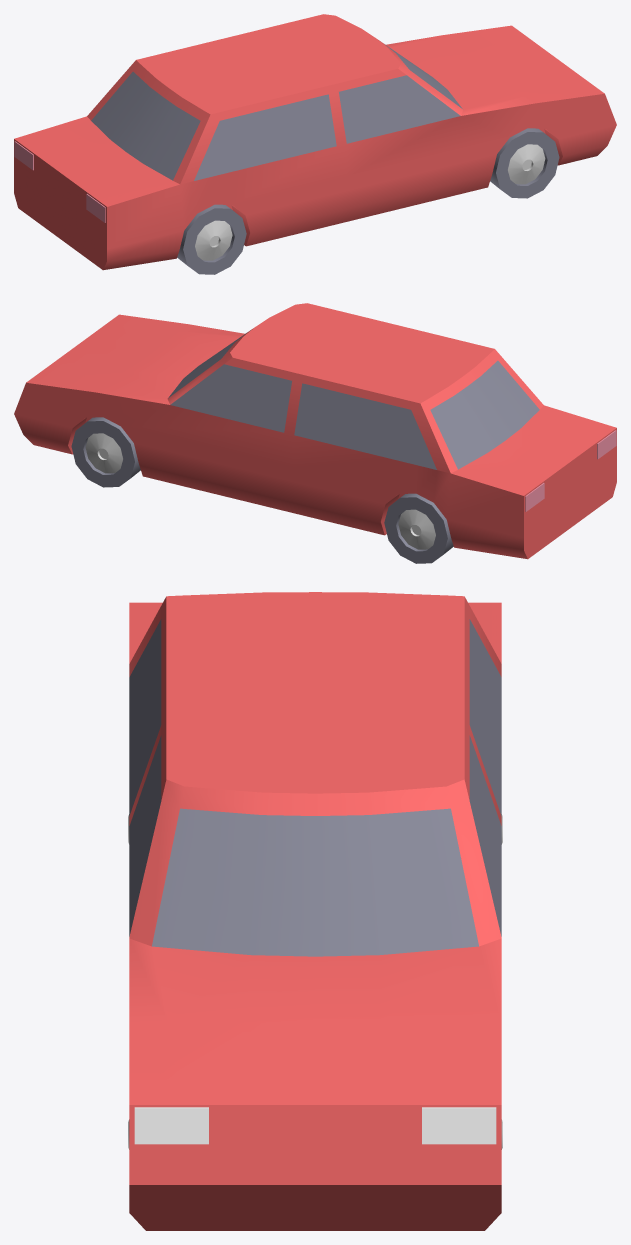
The model's file is LimoRed.gltf.
The picture shows the model from 3 angles, top to bottom: view 1: azimuth 30°, elevation 25°; view 2: azimuth 150°, elevation 25°; view 3: azimuth 270°, elevation 25°; orthographic projection. The views are drawn at different scales.
Visible parts, largest first — view 1: Cabin, Windows/Wheels, Wheels, Disk, Red lights; view 2: Cabin, Windows/Wheels, Wheels, Disk, Red lights; view 3: Cabin, Windows/Wheels, Front lights.
Part boxes in pixels (x1=…): Cabin: x1=14, y1=14, x2=616, y2=270; Windows/Wheels: x1=91, y1=44, x2=462, y2=180; Wheels: x1=177, y1=128, x2=559, y2=274; Disk: x1=195, y1=144, x2=545, y2=260; Red lights: x1=14, y1=141, x2=105, y2=222; Cabin: x1=14, y1=303, x2=616, y2=559; Windows/Wheels: x1=168, y1=333, x2=539, y2=469; Wheels: x1=71, y1=417, x2=453, y2=563; Disk: x1=85, y1=433, x2=435, y2=549; Red lights: x1=525, y1=430, x2=616, y2=511; Cabin: x1=129, y1=592, x2=501, y2=1230; Windows/Wheels: x1=129, y1=619, x2=501, y2=956; Front lights: x1=134, y1=1107, x2=496, y2=1144.
Size of the model in its own units: 0.0551 by 0.0157 by 0.0175.
